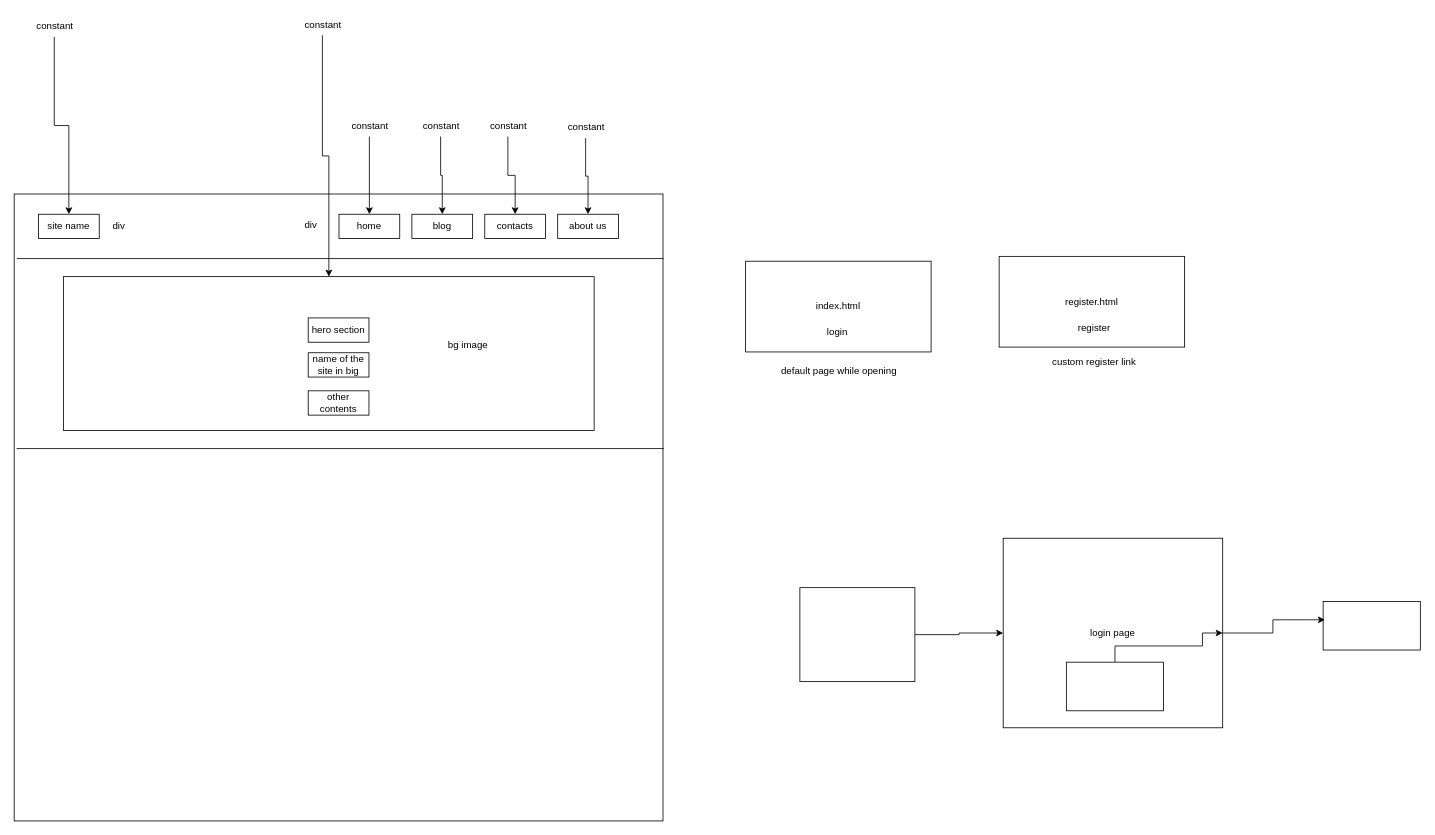
Image size: 1435x835. Some labels were removed from this diagram. The centre of each missing label's shape, as x and y in pixels:
"authentication system" belongs at pixel 1115 686.
"premium contents/blogs" belongs at pixel 1371 625.
"register page" belongs at pixel 857 634.
